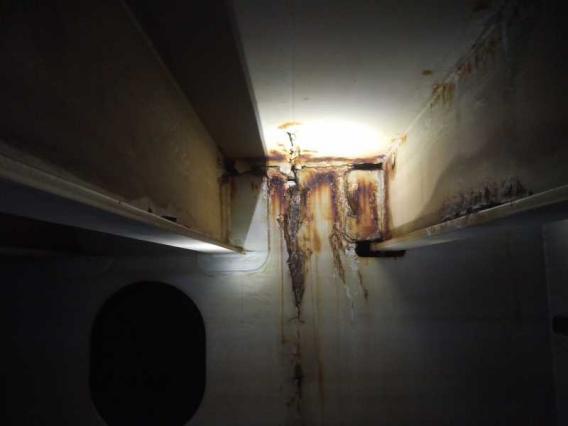corrosion: (264, 172, 327, 346), (312, 168, 395, 270), (441, 182, 527, 238)
